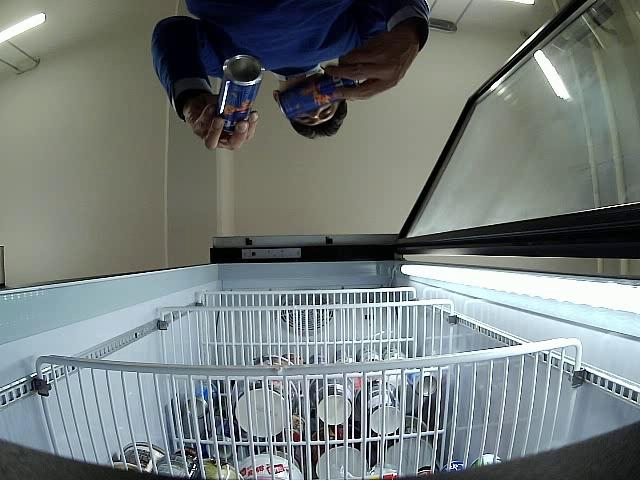00_hand: (326, 35, 414, 99), (185, 101, 258, 153)
16_hot6: (215, 54, 263, 133), (277, 73, 356, 121)
